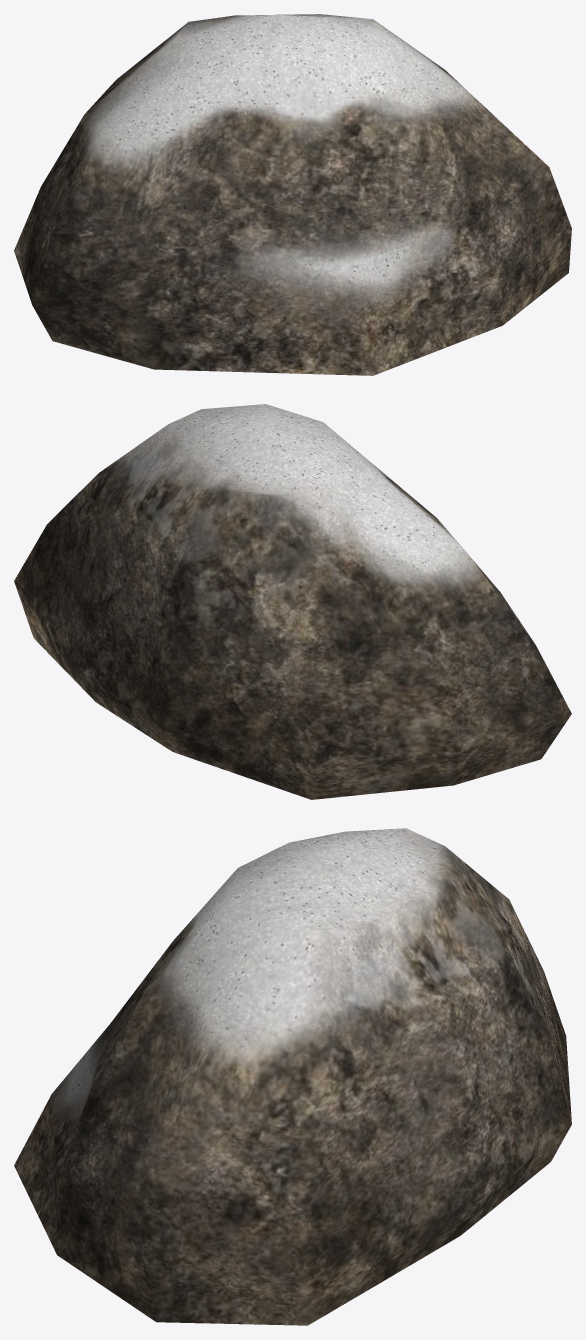
Rendered from Stone-3.obj.
The picture shows the model from 3 angles, top to bottom: view 1: azimuth 30°, elevation 25°; view 2: azimuth 150°, elevation 25°; view 3: azimuth 270°, elevation 25°; orthographic projection. The views are drawn at different scales.
Parts seen in each view (by area): view 1: Stone_3; view 2: Stone_3; view 3: Stone_3.
Part boxes in pixels (bbox=[...]): Stone_3: bbox=[14, 14, 571, 375]; Stone_3: bbox=[14, 404, 571, 799]; Stone_3: bbox=[14, 828, 571, 1325].
Bounding box in the file's own units: 1.62 × 0.7949 × 1.19.
